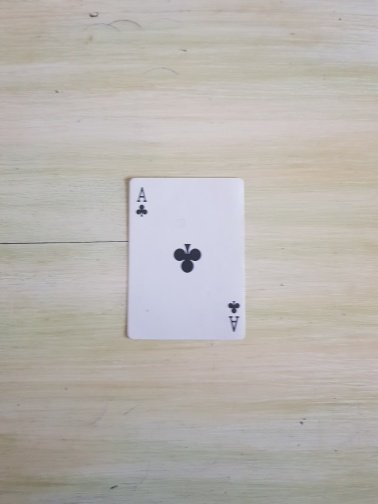ace: (125, 177, 247, 341)
